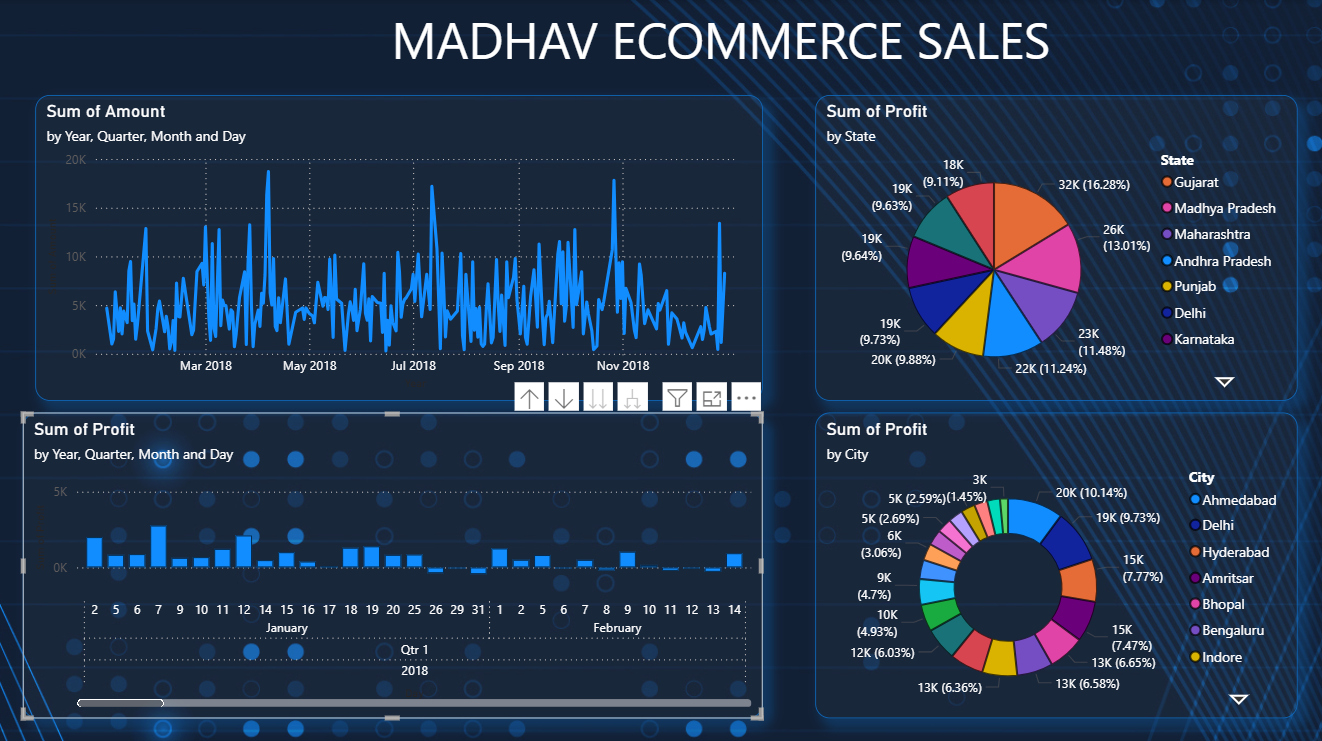

This screenshot's page, from the dashboard's own definition file:
{"tool":"powerbi","page":{"name":"Page 1","canvas":[1280,720],"ordinal":1},"visuals":[{"type":"textbox","box":[284.7,0,824,91.7],"z":0},{"type":"lineChart","fields":{"Category":["madhav_store_orders_400.Order Date.Variation.Date Hierarchy.Year","madhav_store_orders_400.Order Date.Variation.Date Hierarchy.Quarter","madhav_store_orders_400.Order Date.Variation.Date Hierarchy.Month","madhav_store_orders_400.Order Date.Variation.Date Hierarchy.Day"],"Y":["Sum(madhav_store_sales_400.Amount)"]},"box":[35,91.7,702.1,295.6],"z":1000},{"type":"pieChart","fields":{"Category":["madhav_store_orders_400.State"],"Y":["Sum(madhav_store_sales_400.Profit)"]},"box":[787.8,91.7,465.7,295.6],"z":2000},{"type":"columnChart","fields":{"Category":["madhav_store_orders_400.Order Date.Variation.Date Hierarchy.Year","madhav_store_orders_400.Order Date.Variation.Date Hierarchy.Quarter","madhav_store_orders_400.Order Date.Variation.Date Hierarchy.Month","madhav_store_orders_400.Order Date.Variation.Date Hierarchy.Day"],"Y":["Sum(madhav_store_sales_400.Profit)"]},"box":[22.9,398.1,714.2,295.6],"z":3000},{"type":"donutChart","fields":{"Category":["madhav_store_orders_400.City"],"Y":["Sum(madhav_store_sales_400.Profit)"]},"box":[787.8,398.1,465.7,295.6],"z":4000},{"type":"textbox","box":[294.7,10,824,91.7],"z":5000}]}

Visuals, with their boxes in screenshot pixels (x1, y1, x2, y2), scaled from the page's 1280x720 canvas onto the 1322x741 screenshot:
textbox: locate(294, 0, 1145, 94)
lineChart - madhav_store_orders_400.Order Date.Variation.Date Hierarchy.Year x madhav_store_orders_400.Order Date.Variation.Date Hierarchy.Quarter: locate(36, 94, 761, 399)
pieChart - madhav_store_orders_400.State x Sum(madhav_store_sales_400.Profit): locate(814, 94, 1295, 399)
columnChart - madhav_store_orders_400.Order Date.Variation.Date Hierarchy.Year x madhav_store_orders_400.Order Date.Variation.Date Hierarchy.Quarter: locate(24, 410, 761, 714)
donutChart - madhav_store_orders_400.City x Sum(madhav_store_sales_400.Profit): locate(814, 410, 1295, 714)
textbox: locate(304, 10, 1155, 105)
